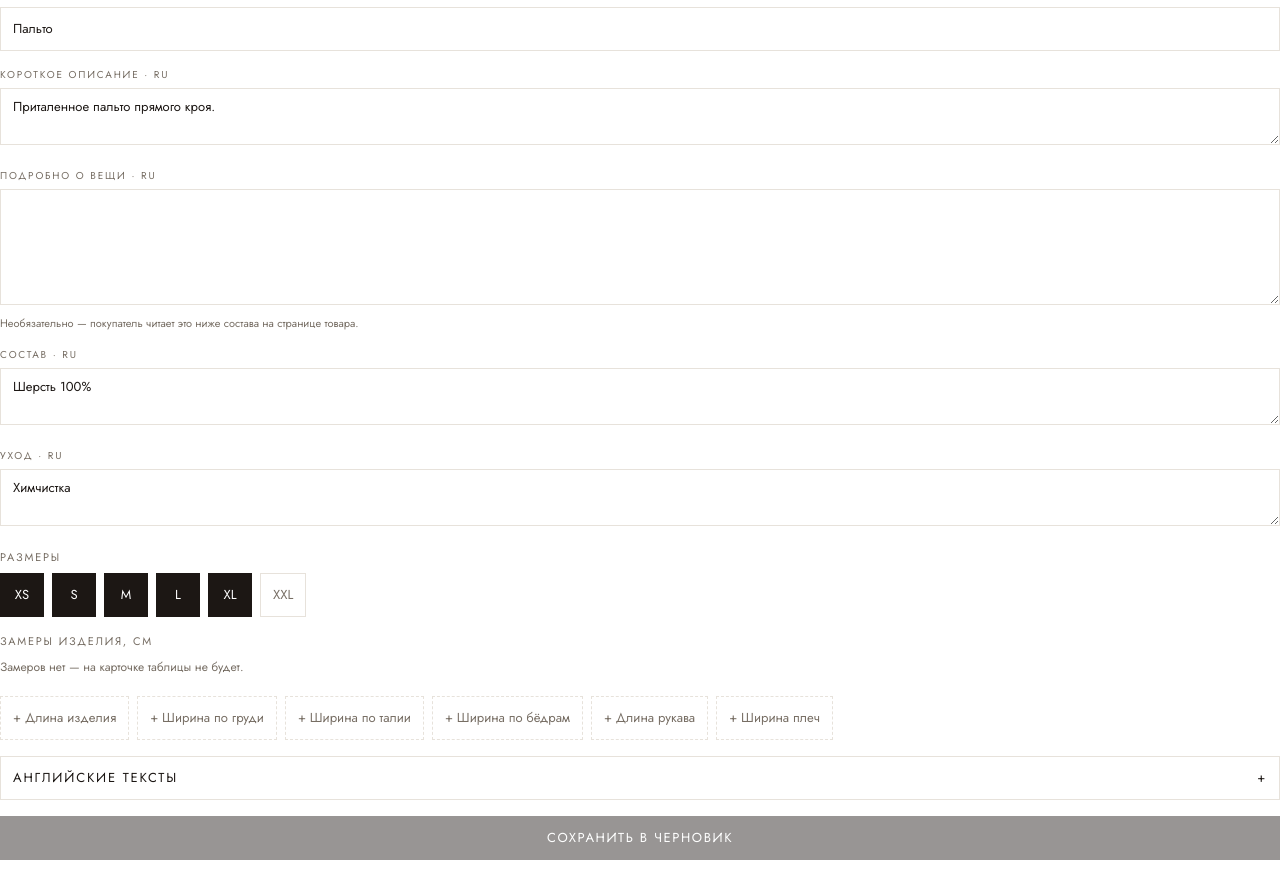
Test: ModelForm — загрузка и раскладка › клик по переключателю раскрывает английские поля с уже загруженными значениями
Expected: the field labelled "Название · ru" is shown, x1=0 y1=7 x2=1279 y2=51
Click the button "Английские тексты +". click: coordinates (95, 777)
box: x1=0 y1=756 x2=1279 y2=800
(page scrolled)
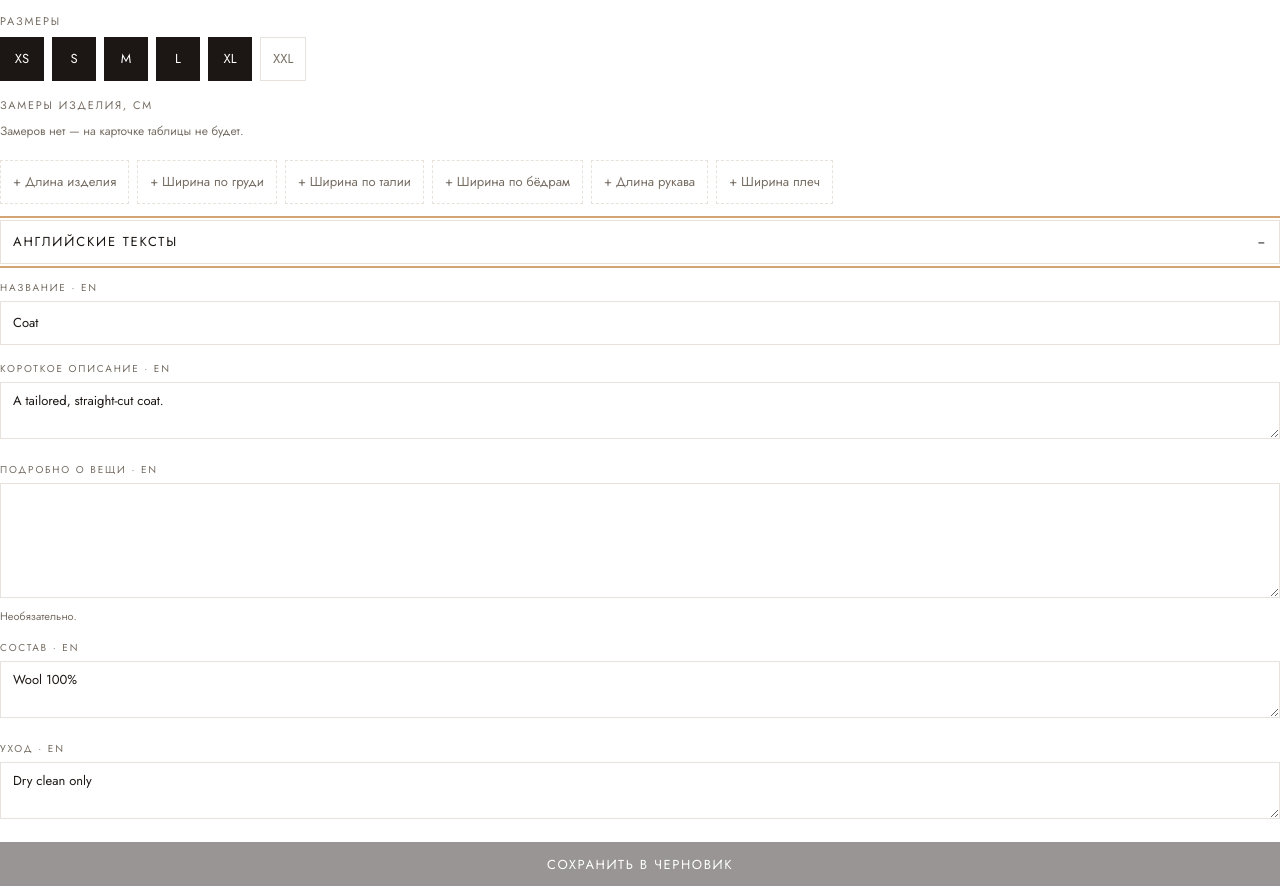
Expected: the button "Английские тексты −" is expanded, x1=0 y1=220 x2=1279 y2=264
Expected: the field labelled "Название · en" holds "Coat", x1=0 y1=301 x2=1279 y2=345
Expected: the text box labelled "Уход · en" holds "Dry clean only", x1=0 y1=762 x2=1279 y2=819
